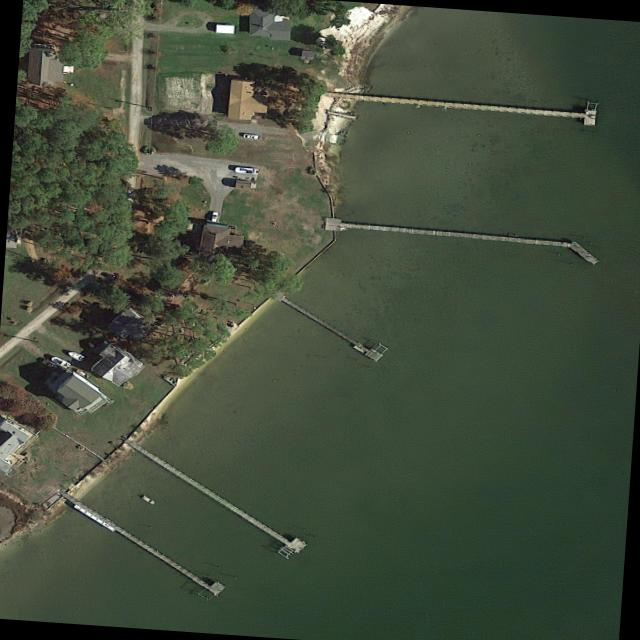ship: (48, 354, 70, 368), (137, 493, 157, 506), (233, 166, 257, 175), (65, 350, 84, 361), (74, 369, 88, 378)
small-vehicle: (242, 133, 258, 140), (209, 210, 218, 222)
